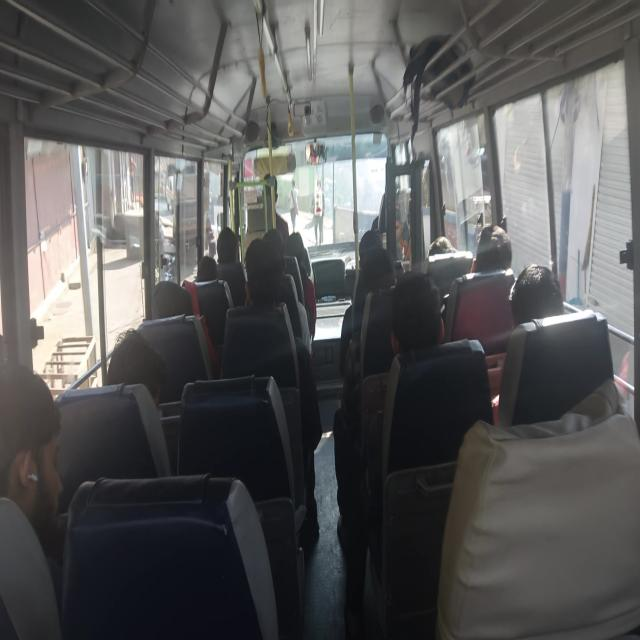person: (6, 386, 79, 572), (112, 331, 166, 405), (394, 281, 437, 353), (243, 240, 281, 300), (156, 274, 194, 328), (366, 233, 396, 299), (515, 266, 552, 314), (476, 224, 518, 266), (428, 230, 460, 259), (217, 228, 238, 270), (259, 225, 282, 261), (285, 230, 307, 262), (355, 218, 380, 242), (197, 258, 216, 287)
